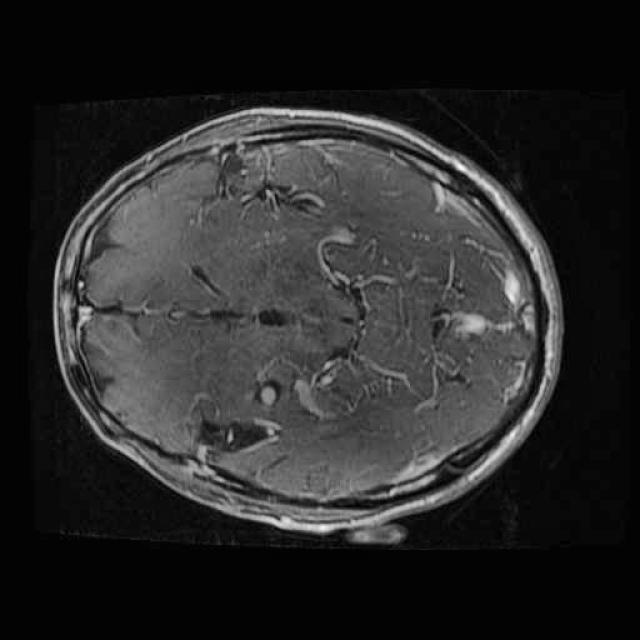Tumor: (250, 366, 294, 420)
